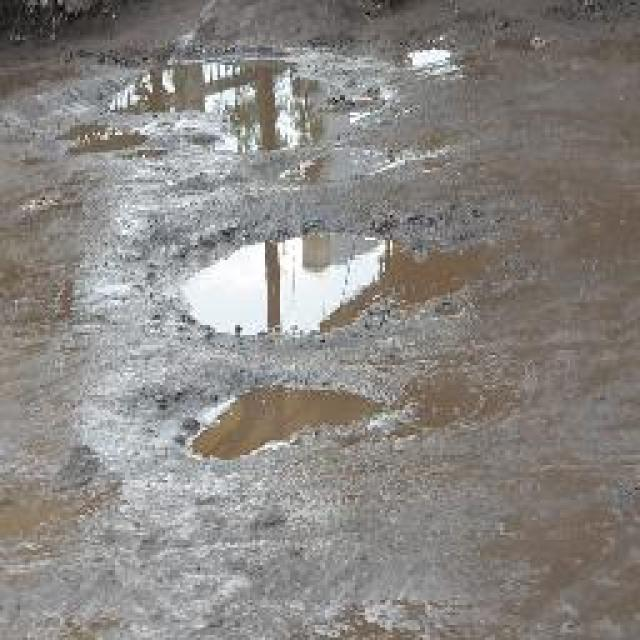waterlogging: (170, 222, 500, 345), (104, 40, 339, 158), (185, 378, 393, 472)
